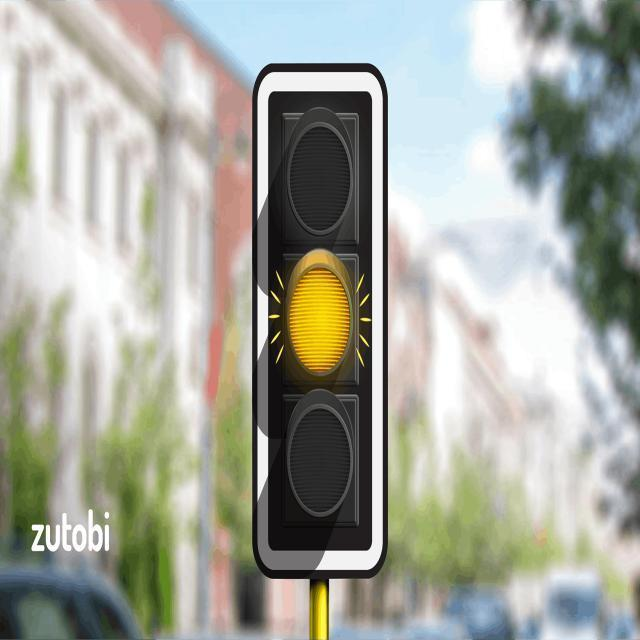yellow_light: (251, 63, 386, 569)
